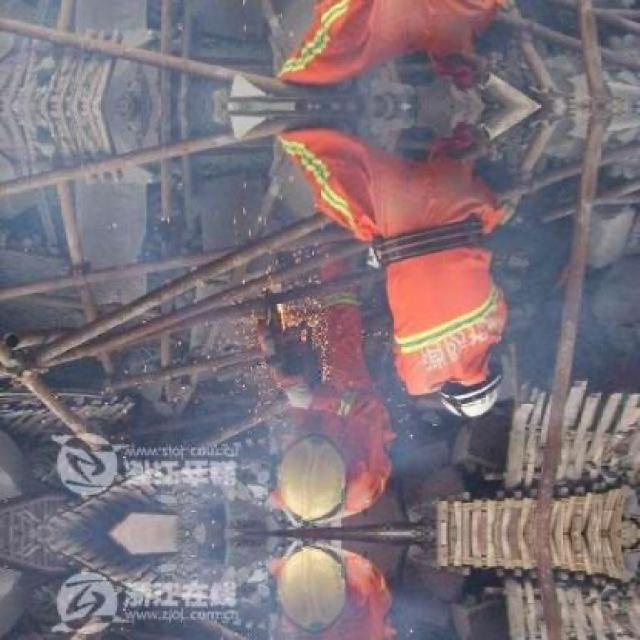con casco: (270, 436, 375, 526), (416, 357, 525, 441), (276, 543, 354, 626)
